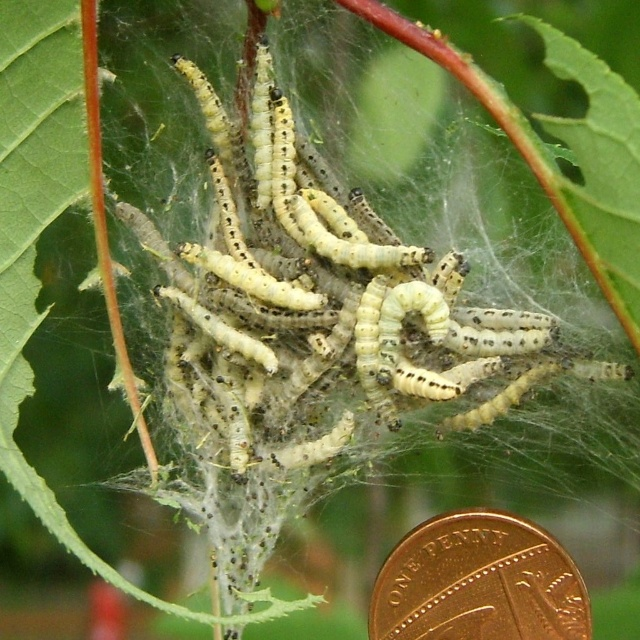Caterpillar: (115, 40, 635, 483)
